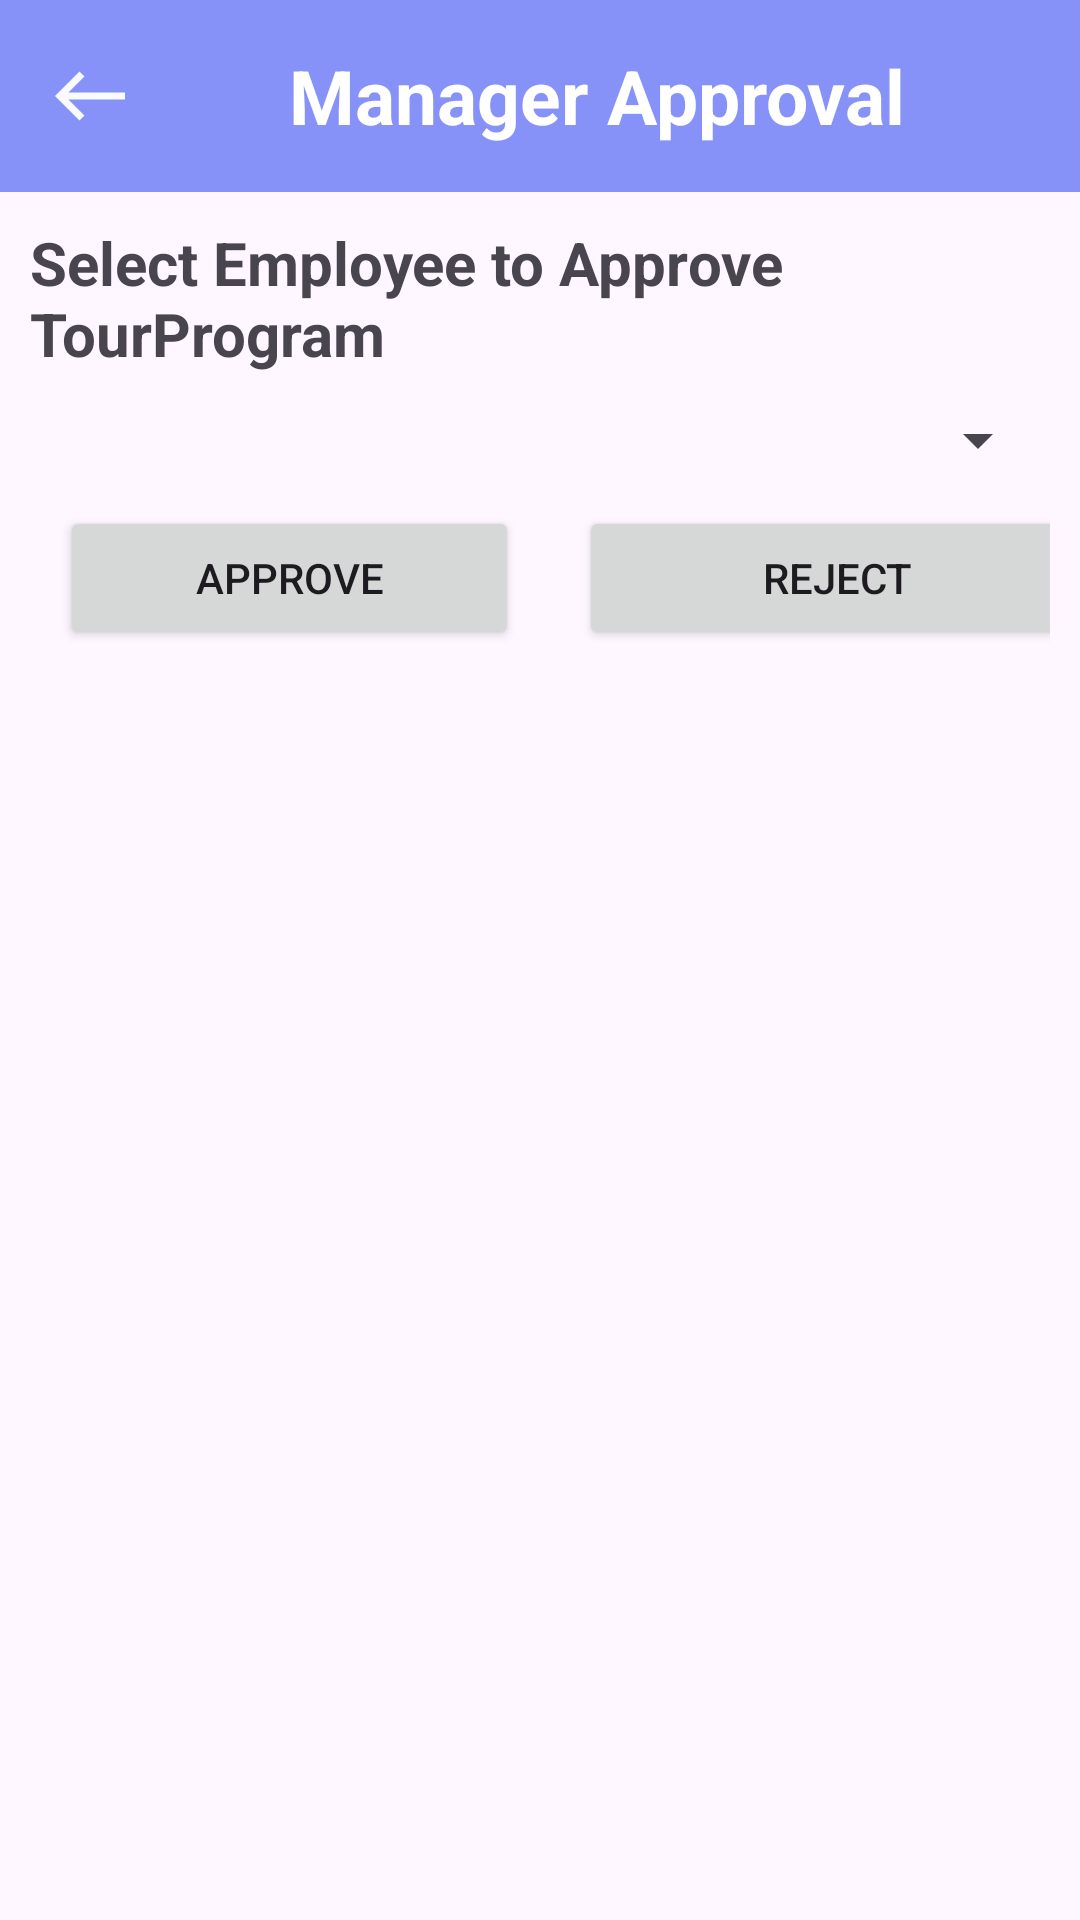

Named icons in this screenshot (1080px x 1920px) and their bounding boxes, (x1, y1, x2, y2):
west: (55, 71, 125, 121)
